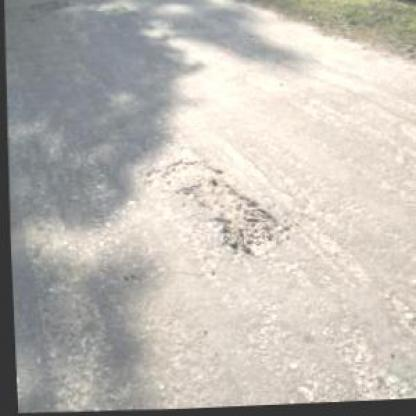pothole: (158, 154, 294, 261)
